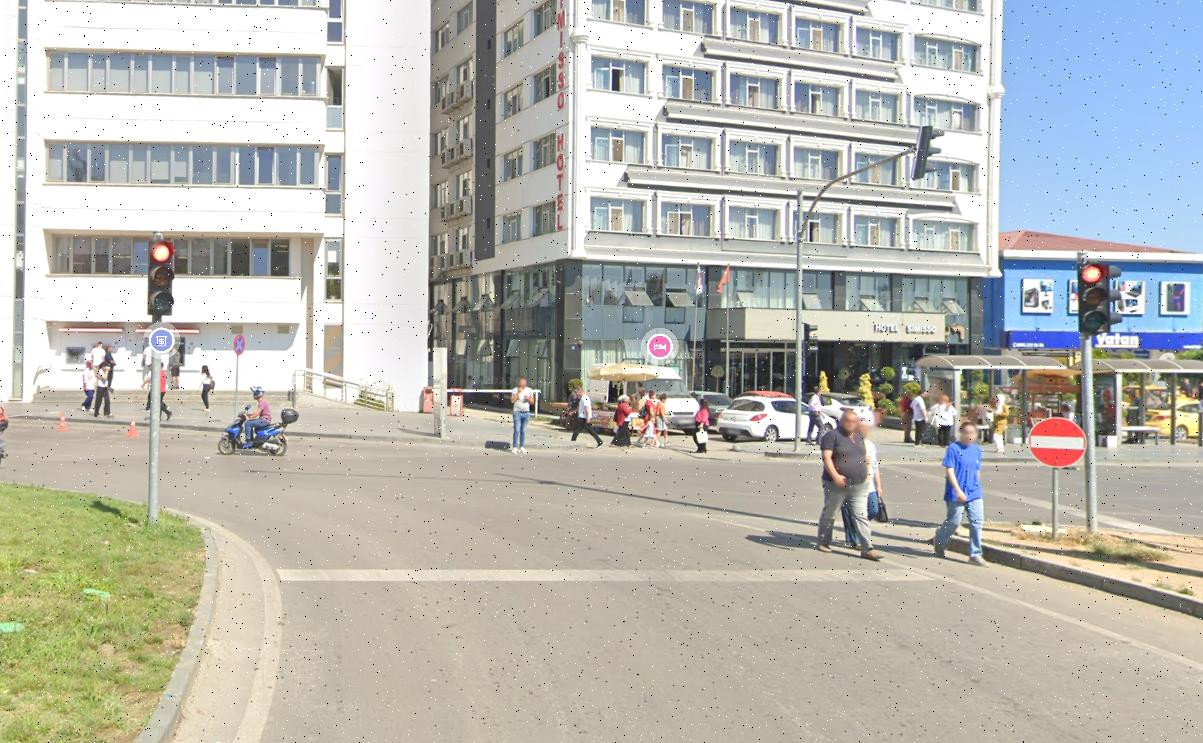redlight: (1075, 263, 1108, 332), (149, 244, 174, 316)
